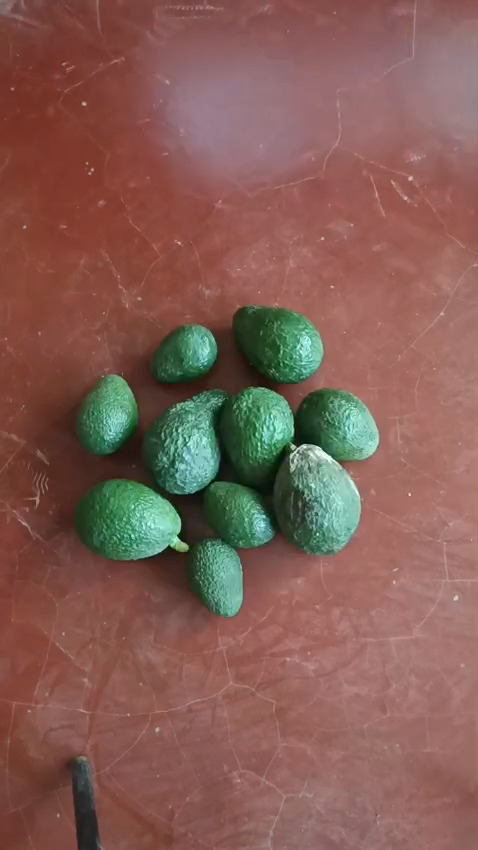Primera: (272, 443, 361, 554), (74, 479, 187, 560), (142, 391, 227, 494), (218, 387, 294, 487), (232, 304, 323, 382)
Segunda: (294, 388, 380, 462), (75, 373, 138, 455)
Tercera: (202, 480, 275, 549), (186, 537, 242, 615), (149, 324, 217, 384)
